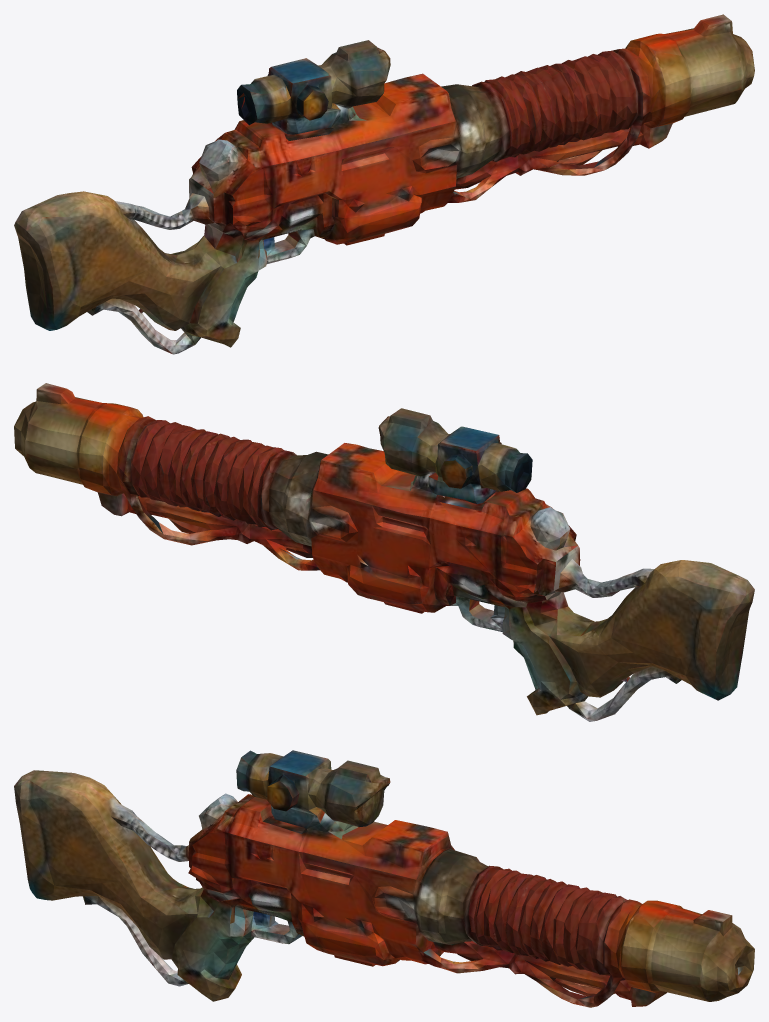
Rendered from hc-w-galvanic-rifle.glb.
The picture shows the model from 3 angles, top to bottom: view 1: azimuth 30°, elevation 25°; view 2: azimuth 150°, elevation 25°; view 3: azimuth 330°, elevation 25°; orthographic projection.
Visible parts, largest first — view 1: tmpky46ws4r.ply; view 2: tmpky46ws4r.ply; view 3: tmpky46ws4r.ply.
Boxes of the visible parts, x1,y1,x2,y2 form: tmpky46ws4r.ply: (14,14,754,354); tmpky46ws4r.ply: (14,383,754,721); tmpky46ws4r.ply: (14,750,754,1007).
Size of the model in its own units: 1 by 0.3466 by 0.1127.
1 material, 1 textured.
